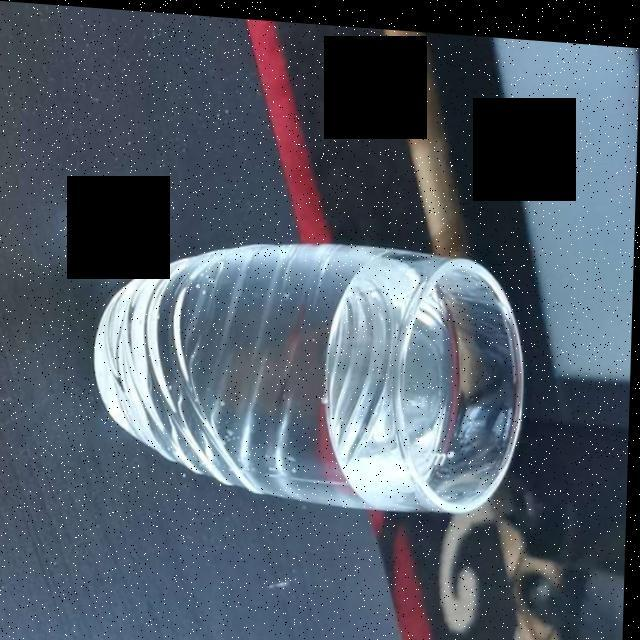water: (111, 225, 454, 500)
